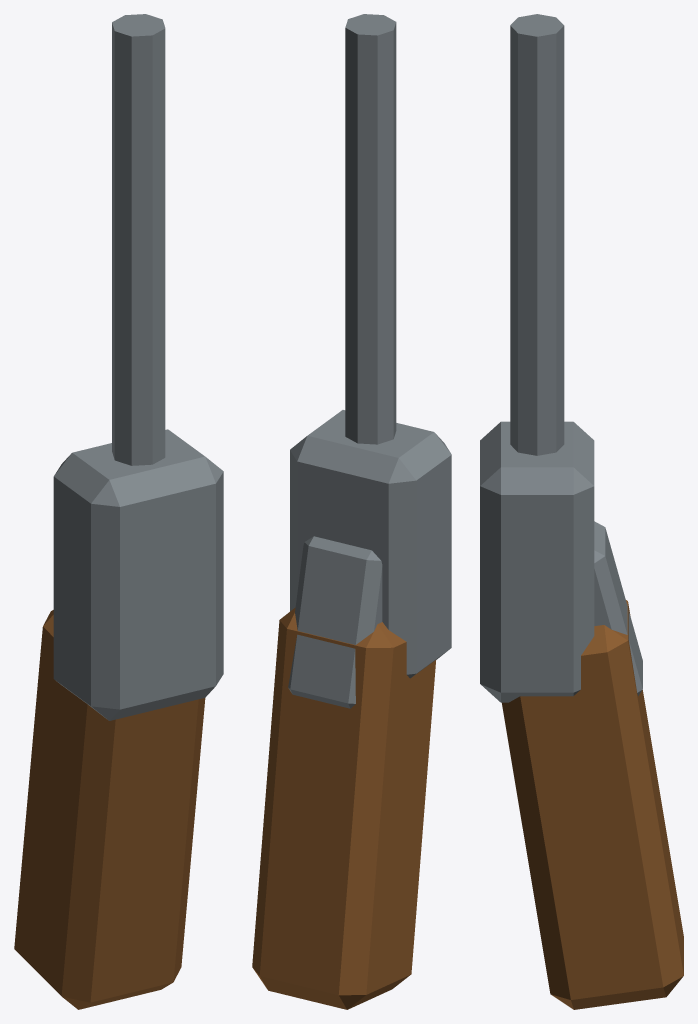
Rendered from pieza-villager-firearm-e5-H_2Ghm_Y.glb.
3 renders of one model, left to right at view 1: azimuth 30°, elevation 25°; view 2: azimuth 150°, elevation 25°; view 3: azimuth 270°, elevation 25°, orthographic. The views are drawn at different scales.
Visible parts, largest first — view 1: prop_firearm_e5; view 2: prop_firearm_e5; view 3: prop_firearm_e5.
Part boxes in pixels (<box>): prop_firearm_e5: <box>14,14,223,1009</box>; prop_firearm_e5: <box>252,14,451,1009</box>; prop_firearm_e5: <box>480,14,683,1009</box>.
Bounding box in the file's own units: 0.72 × 5.12 × 0.9808.
